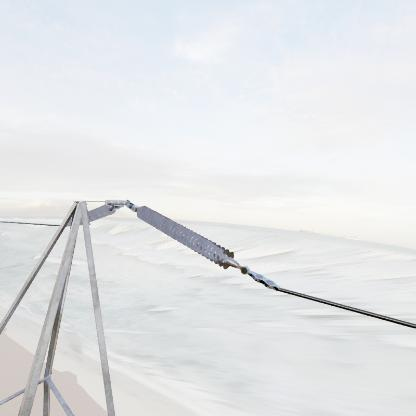insulator: (134, 203, 242, 271)
